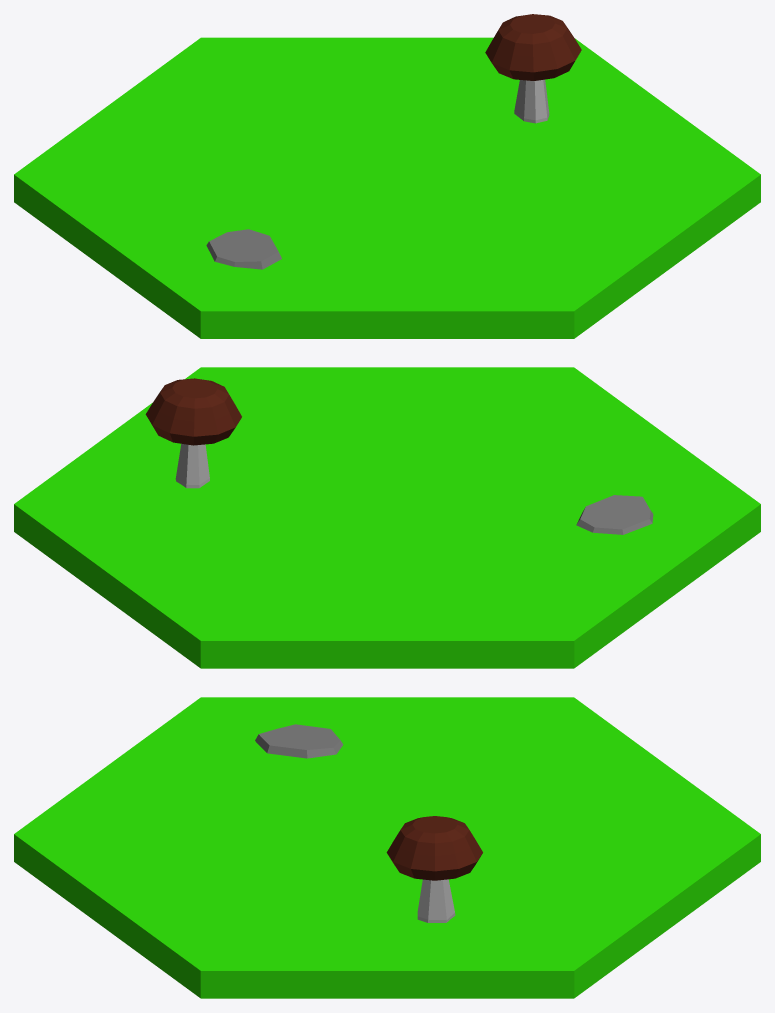
File: green3.glb
The picture shows the model from 3 angles, top to bottom: view 1: azimuth 30°, elevation 25°; view 2: azimuth 150°, elevation 25°; view 3: azimuth 270°, elevation 25°; orthographic projection.
Visible parts, largest first — view 1: Cylinder.013; view 2: Cylinder.013; view 3: Cylinder.013.
Part boxes in pixels (left/top/right/bottom): Cylinder.013: left=14, top=14, right=760, bottom=338; Cylinder.013: left=14, top=367, right=760, bottom=668; Cylinder.013: left=14, top=697, right=760, bottom=998.
Size of the model in its own units: 0.9458 by 0.194 by 1.09.
